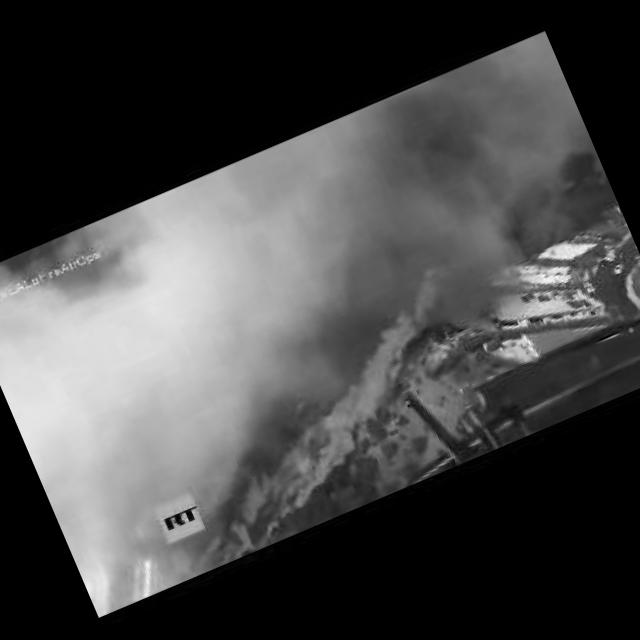fire: (106, 265, 518, 581)
smoke: (288, 39, 622, 374)
